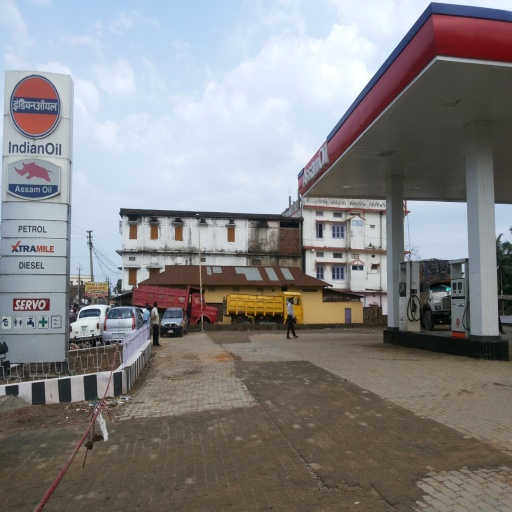roof: (299, 6, 511, 201)
